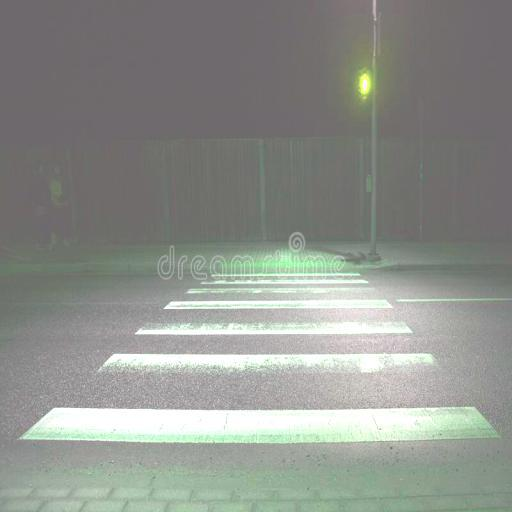crosswalk: (98, 316, 446, 384)
